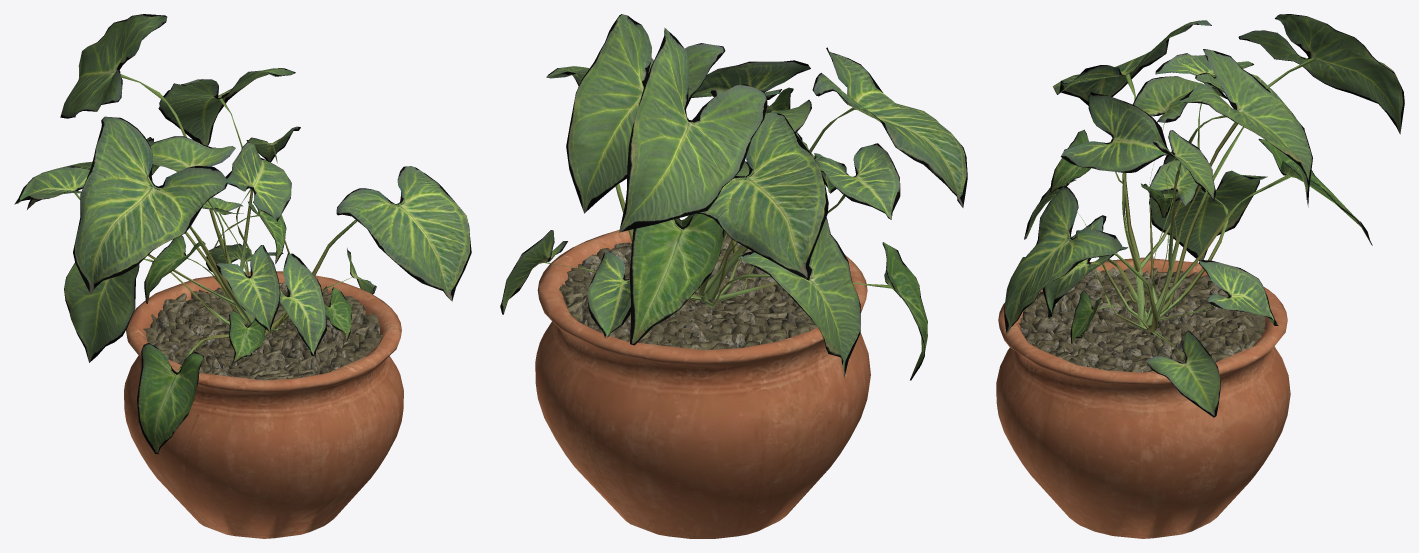
The model's file is potted_plant_02.glb.
The picture shows the model from 3 angles, left to right: view 1: azimuth 30°, elevation 25°; view 2: azimuth 150°, elevation 25°; view 3: azimuth 270°, elevation 25°; orthographic projection. The views are drawn at different scales.
Visible parts, largest first — view 1: potted_plant_02_leaves, potted_plant_02_pot; view 2: potted_plant_02_leaves, potted_plant_02_pot; view 3: potted_plant_02_pot, potted_plant_02_leaves.
Boxes of the visible parts, x1,y1,x2,y2 form: potted_plant_02_leaves: (14,14,471,453); potted_plant_02_pot: (124,271,403,538); potted_plant_02_leaves: (500,14,967,380); potted_plant_02_pot: (535,220,870,538); potted_plant_02_pot: (996,257,1290,538); potted_plant_02_leaves: (1004,14,1404,417).
Bounding box in the file's own units: 0.7009 × 0.8412 × 0.6561.
2 materials, 2 textured.
